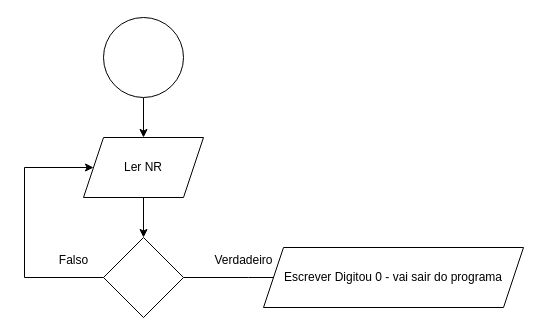
The diagram is 541 pixels wide and 335 high, and some of its shapes have lost their labels. Each missing label, with the centre of its shape:
"Inicio" belongs at pixel 143 57.
"NR==0" belongs at pixel 143 277.
